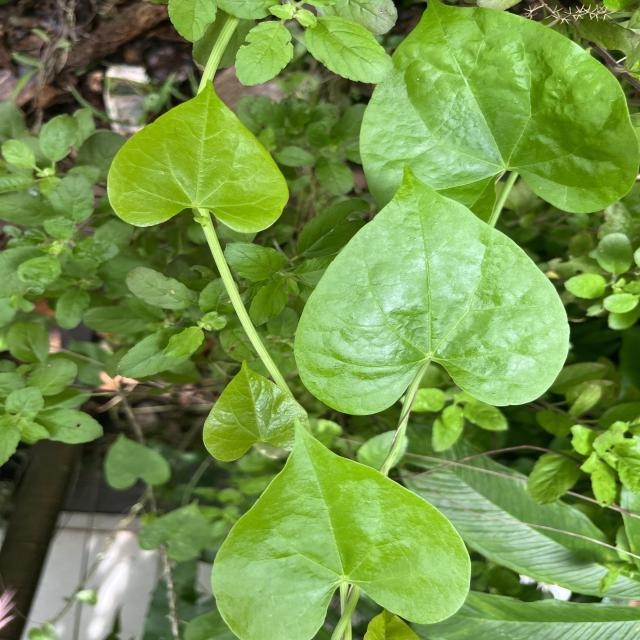Tinospora cordifolia: (290, 157, 572, 422), (208, 412, 476, 640), (105, 76, 292, 237)
